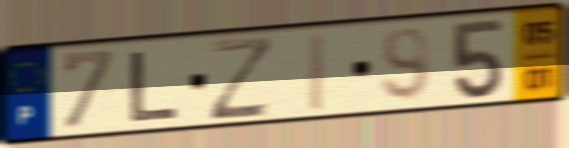5: (449, 15, 506, 101)
7: (59, 47, 116, 134)
9: (378, 26, 433, 104)
I: (304, 29, 331, 116)
L: (127, 48, 183, 125)
Z: (207, 33, 277, 124)
